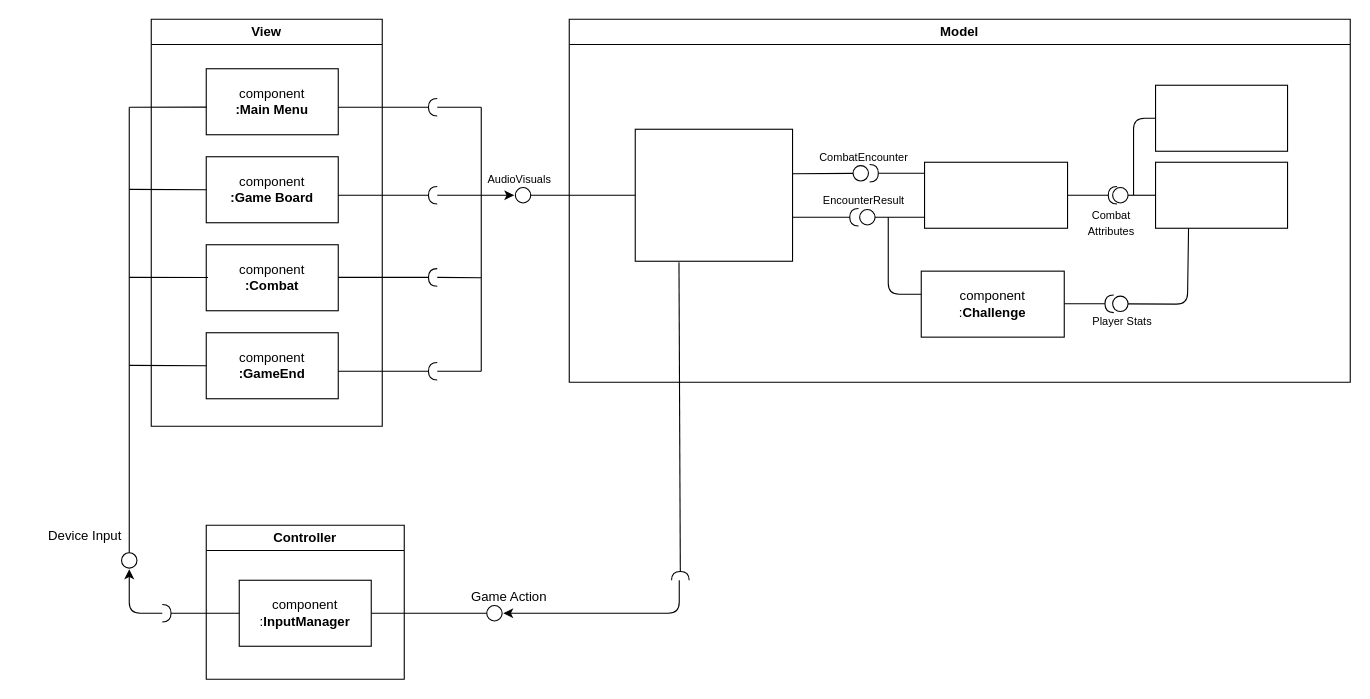
The diagram is 1370 pixels wide and 699 high, and some of its shapes have lost their labels. The shapes that lost their labels are listed below. From the top down, each one's centre as x and y in pixels, then its label:
(1221,117): component : Enemy
(713,194): component : Game
(995,194): component : Combat
(1221,194): component : Player
